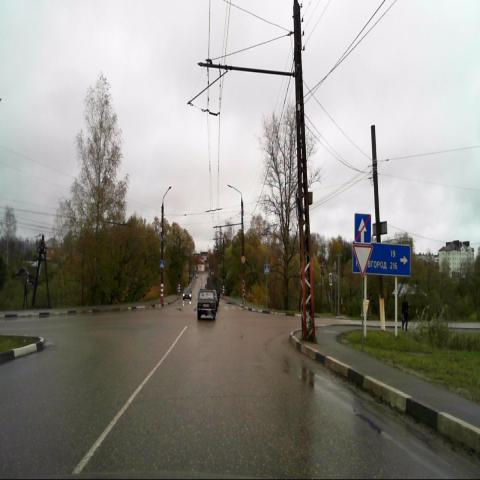5_6: (354, 213, 370, 244)
